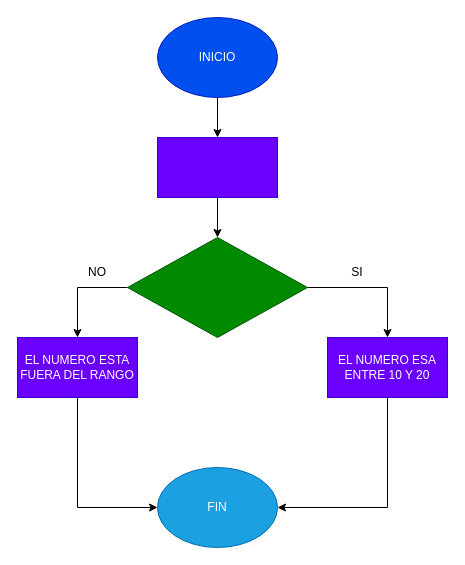
Image size: 465x565. Some labels were removed from this diagram. Here are the shapes that lost their labels. From the top down, the centre of each, then its label:
the point at 217,167: INGRESE UN NUMERO
the point at 217,287: EL NUMERO ESTA ENTRE 10 Y 20 ?
